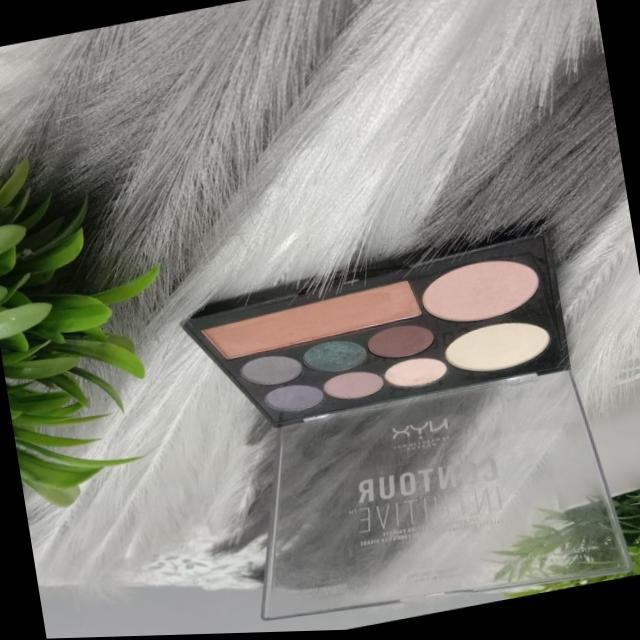eye shade: (204, 246, 555, 437)
